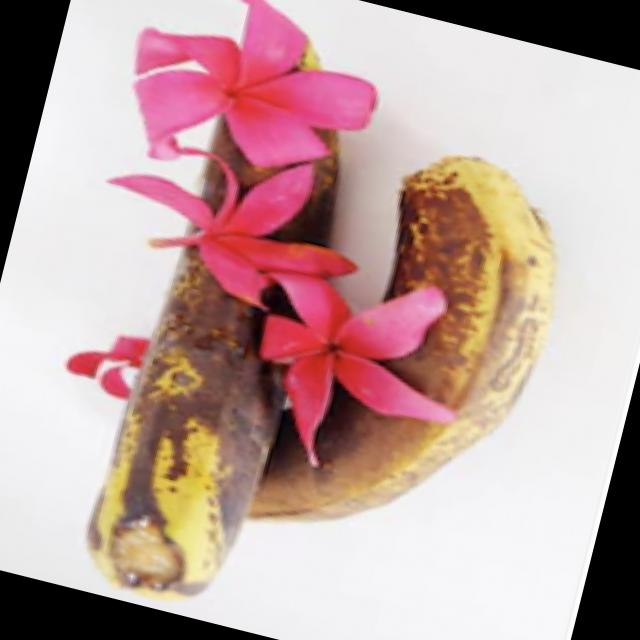rotten-banana: (66, 0, 396, 613), (246, 116, 592, 608)
